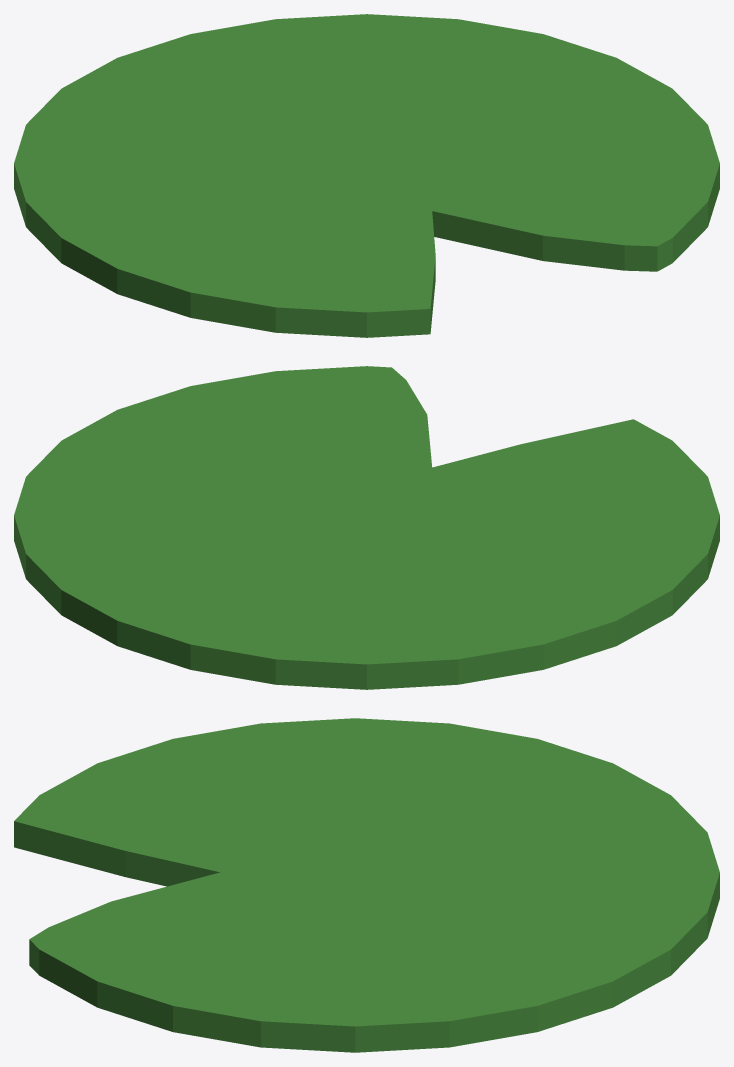
The model's file is Lily.fbx.
3 views of the same model, one above another, from view 1: azimuth 30°, elevation 25°; view 2: azimuth 150°, elevation 25°; view 3: azimuth 270°, elevation 25° (orthographic). The views are drawn at different scales.
Visible parts, largest first — view 1: Lily 1; view 2: Lily 1; view 3: Lily 1.
Part boxes in pixels (left/top/right/bottom): Lily 1: left=14, top=14, right=719, bottom=337; Lily 1: left=14, top=366, right=719, bottom=689; Lily 1: left=14, top=718, right=719, bottom=1052.
Bounding box in the file's own units: 3.5 × 0.1389 × 3.38.
